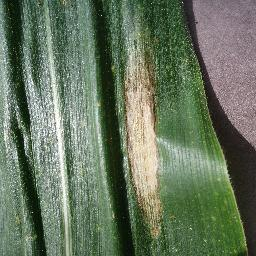Corn_Blight: (121, 33, 169, 243)
